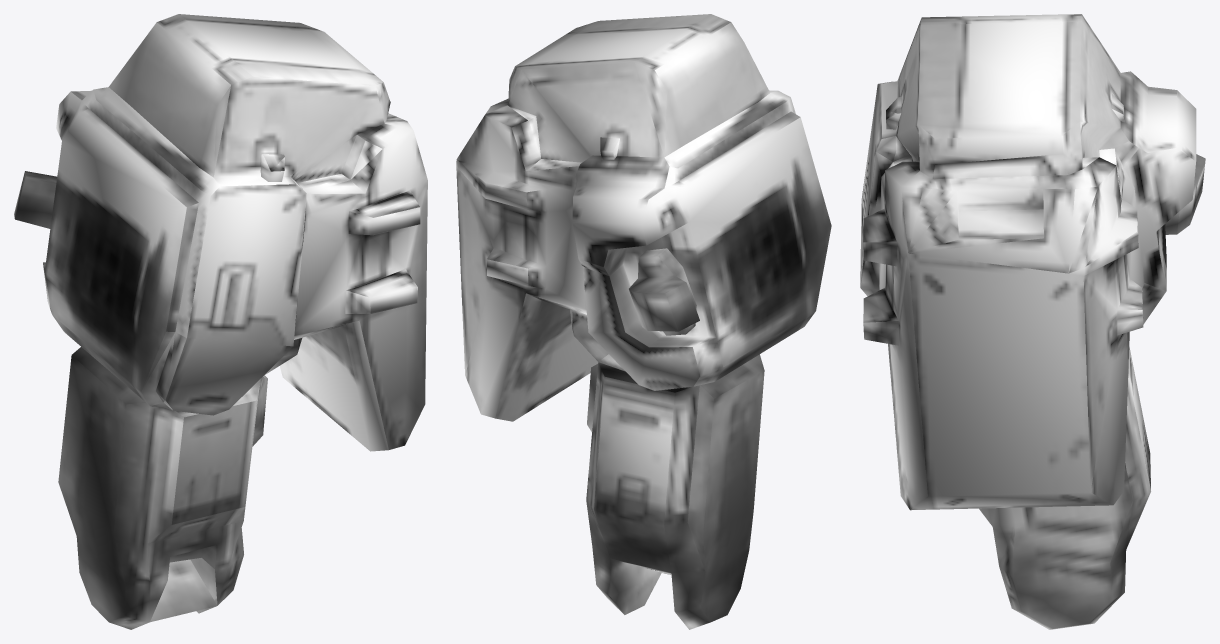
The model's file is l_upper.glb.
The picture shows the model from 3 angles, left to right: view 1: azimuth 30°, elevation 25°; view 2: azimuth 150°, elevation 25°; view 3: azimuth 270°, elevation 25°; orthographic projection. The views are drawn at different scales.
Visible parts, largest first — view 1: l_upper; view 2: l_upper; view 3: l_upper.
Boxes of the visible parts, x1,y1,x2,y2 form: l_upper: (14,14,427,629); l_upper: (456,14,831,629); l_upper: (860,14,1205,629).
Size of the model in its own units: 0.5245 by 0.9689 by 0.5007.
Materials: 3 (3 with a texture image).
